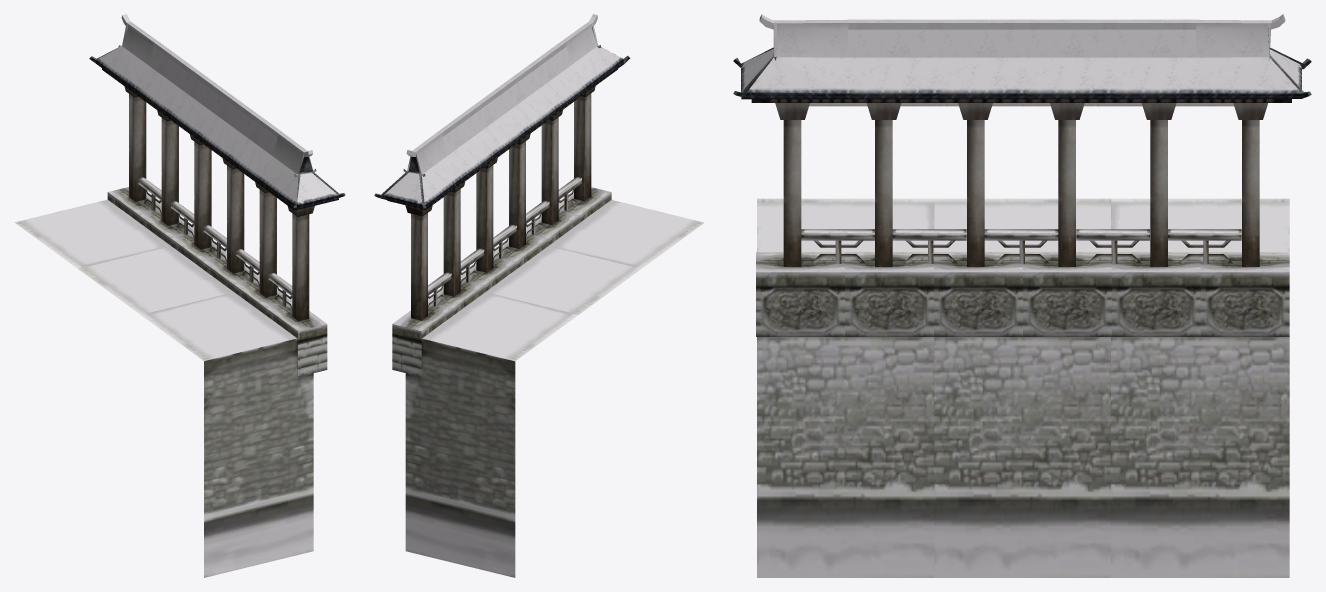
The model's file is general_obj_watchtower01.glb.
3 views of the same model, side by side, from view 1: azimuth 30°, elevation 25°; view 2: azimuth 150°, elevation 25°; view 3: azimuth 270°, elevation 25° (orthographic). The views are drawn at different scales.
Parts seen in each view (by area): view 1: general_obj_watchtower02, general_obj_watchtower01; view 2: general_obj_watchtower02, general_obj_watchtower01; view 3: general_obj_watchtower02, general_obj_watchtower01.
Part boxes in pixels (left/top/right/bottom): general_obj_watchtower02: left=14, top=199, right=313, bottom=577; general_obj_watchtower01: left=89, top=14, right=345, bottom=376; general_obj_watchtower02: left=403, top=169, right=704, bottom=577; general_obj_watchtower01: left=374, top=14, right=630, bottom=376; general_obj_watchtower02: left=757, top=57, right=1289, bottom=577; general_obj_watchtower01: left=733, top=14, right=1311, bottom=336.
Bounding box in the file's own units: 7.37 × 21.01 × 19.63.
2 materials, 2 textured.
